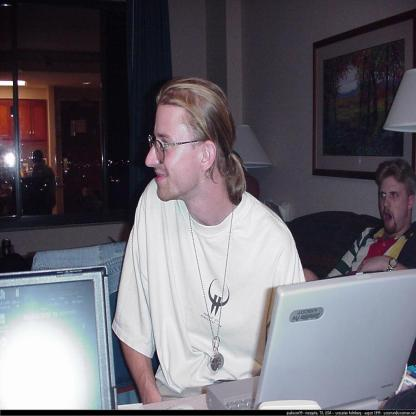board: (203, 264, 416, 410), (0, 266, 118, 410)
